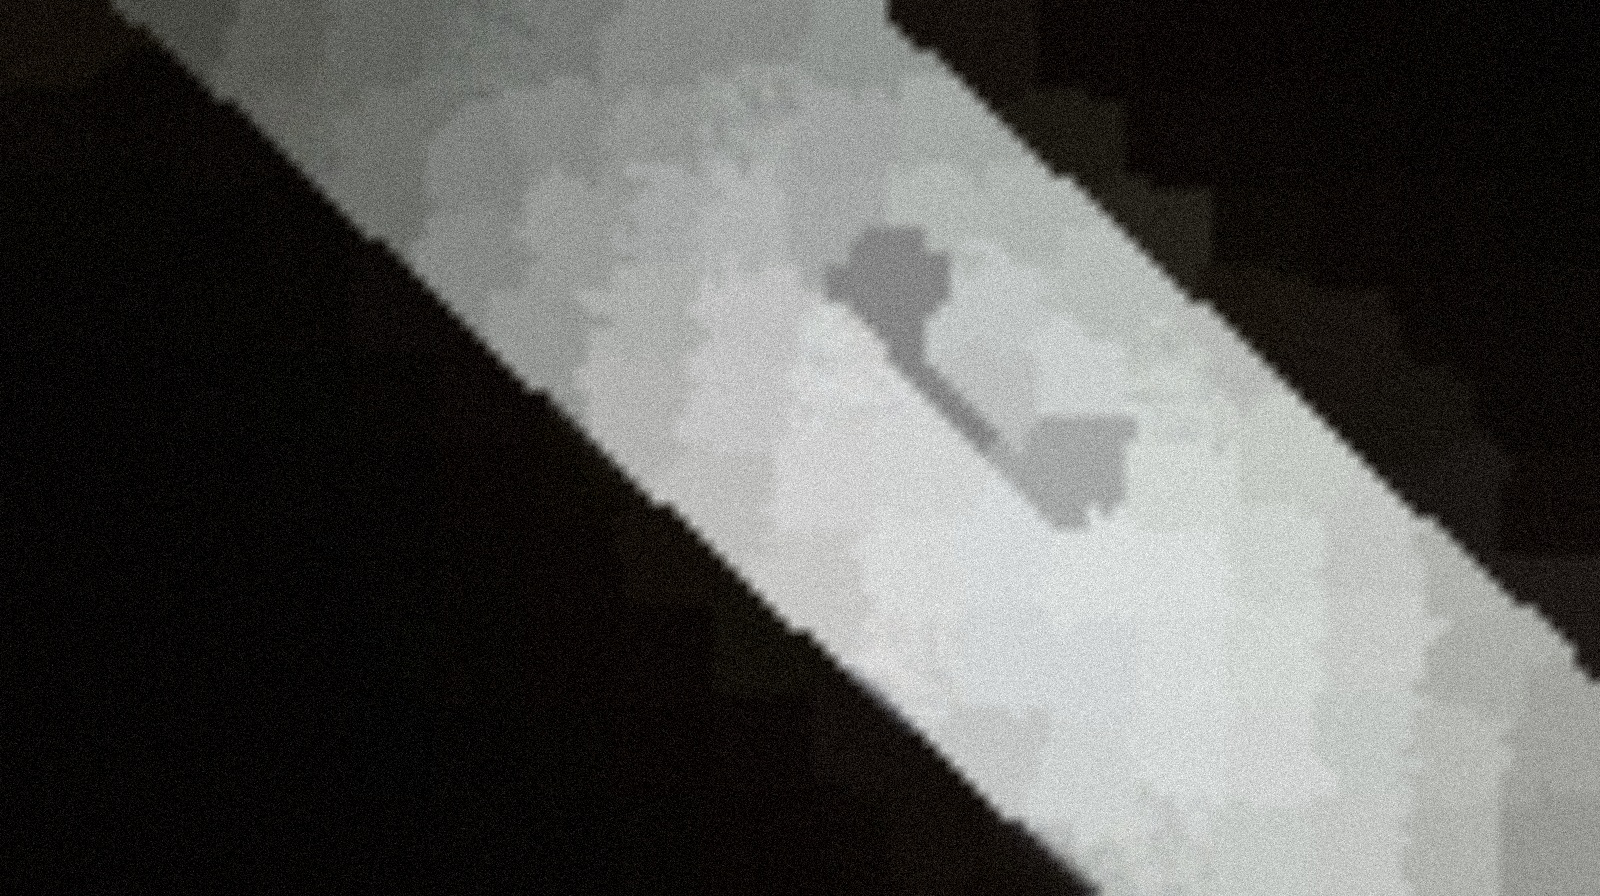S002: (758, 209, 1155, 566)
